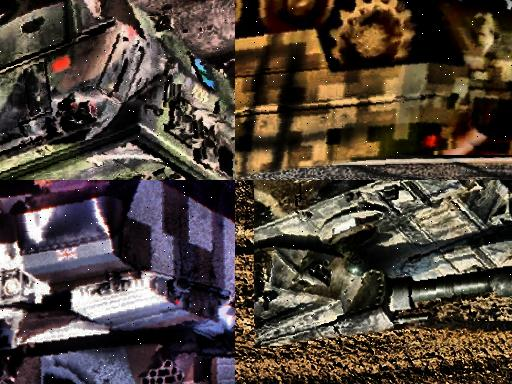tanks: (236, 1, 512, 179), (1, 181, 236, 384), (256, 181, 512, 349), (1, 1, 236, 181)
